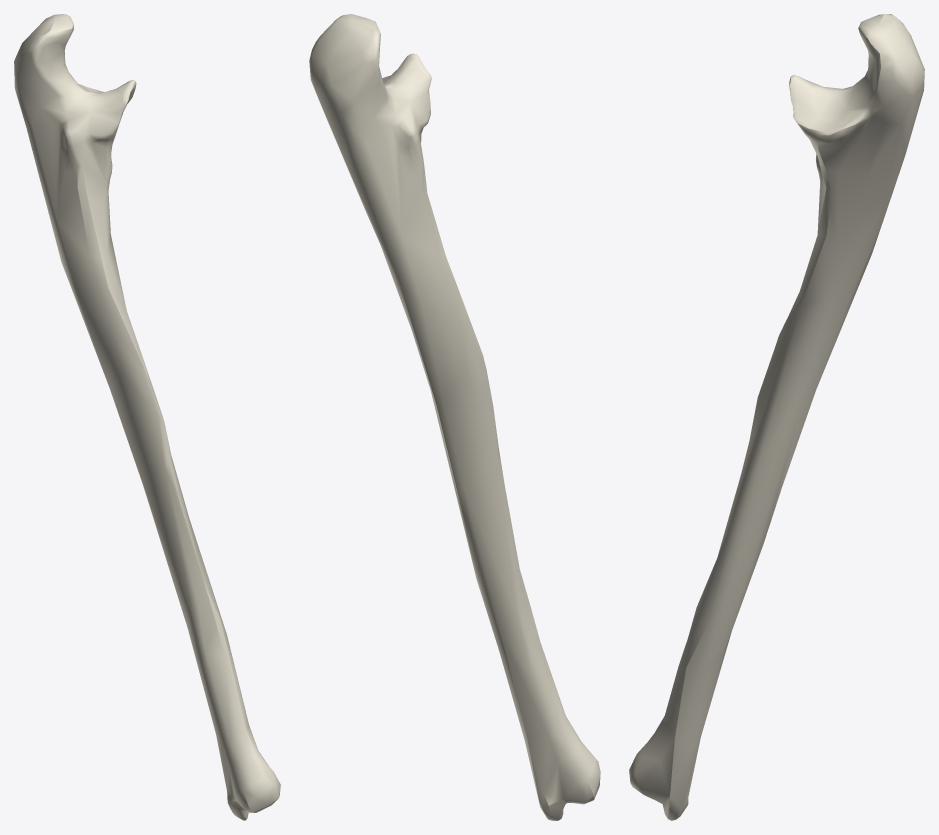
Rendered from fma23467_fj6482.glb.
3 renders of one model, left to right at view 1: azimuth 90°, elevation 25°; view 2: azimuth 150°, elevation 25°; view 3: azimuth 270°, elevation 25°, orthographic. The views are drawn at different scales.
Parts seen in each view (by area): view 1: FMA23467_FJ6482; view 2: FMA23467_FJ6482; view 3: FMA23467_FJ6482.
Boxes of the visible parts, x1=… form: FMA23467_FJ6482: x1=14, y1=14, x2=280, y2=820; FMA23467_FJ6482: x1=309, y1=14, x2=600, y2=820; FMA23467_FJ6482: x1=629, y1=14, x2=924, y2=820.
Bounding box in the file's own units: 0.0504 × 0.2473 × 0.0787.
